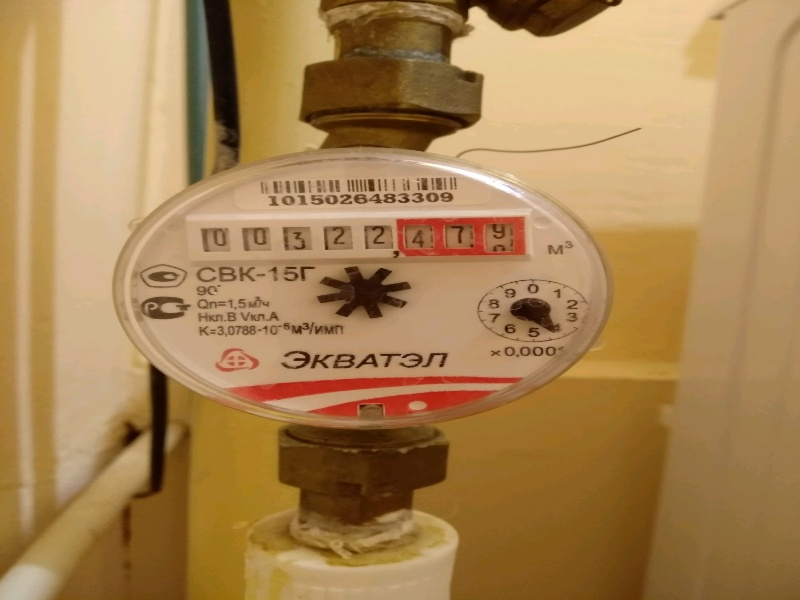meter: (191, 215, 532, 254)
